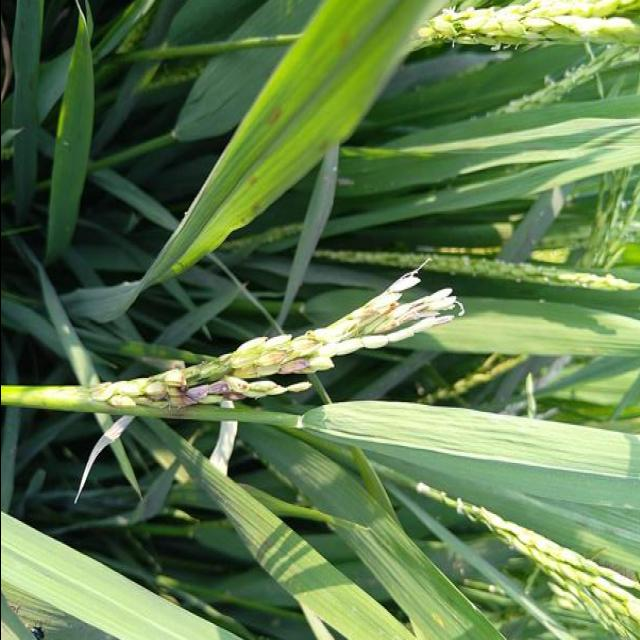Panicle Blight: (136, 370, 193, 408), (183, 379, 229, 401), (365, 309, 397, 333), (252, 348, 287, 367), (275, 357, 309, 375), (220, 391, 256, 402)
